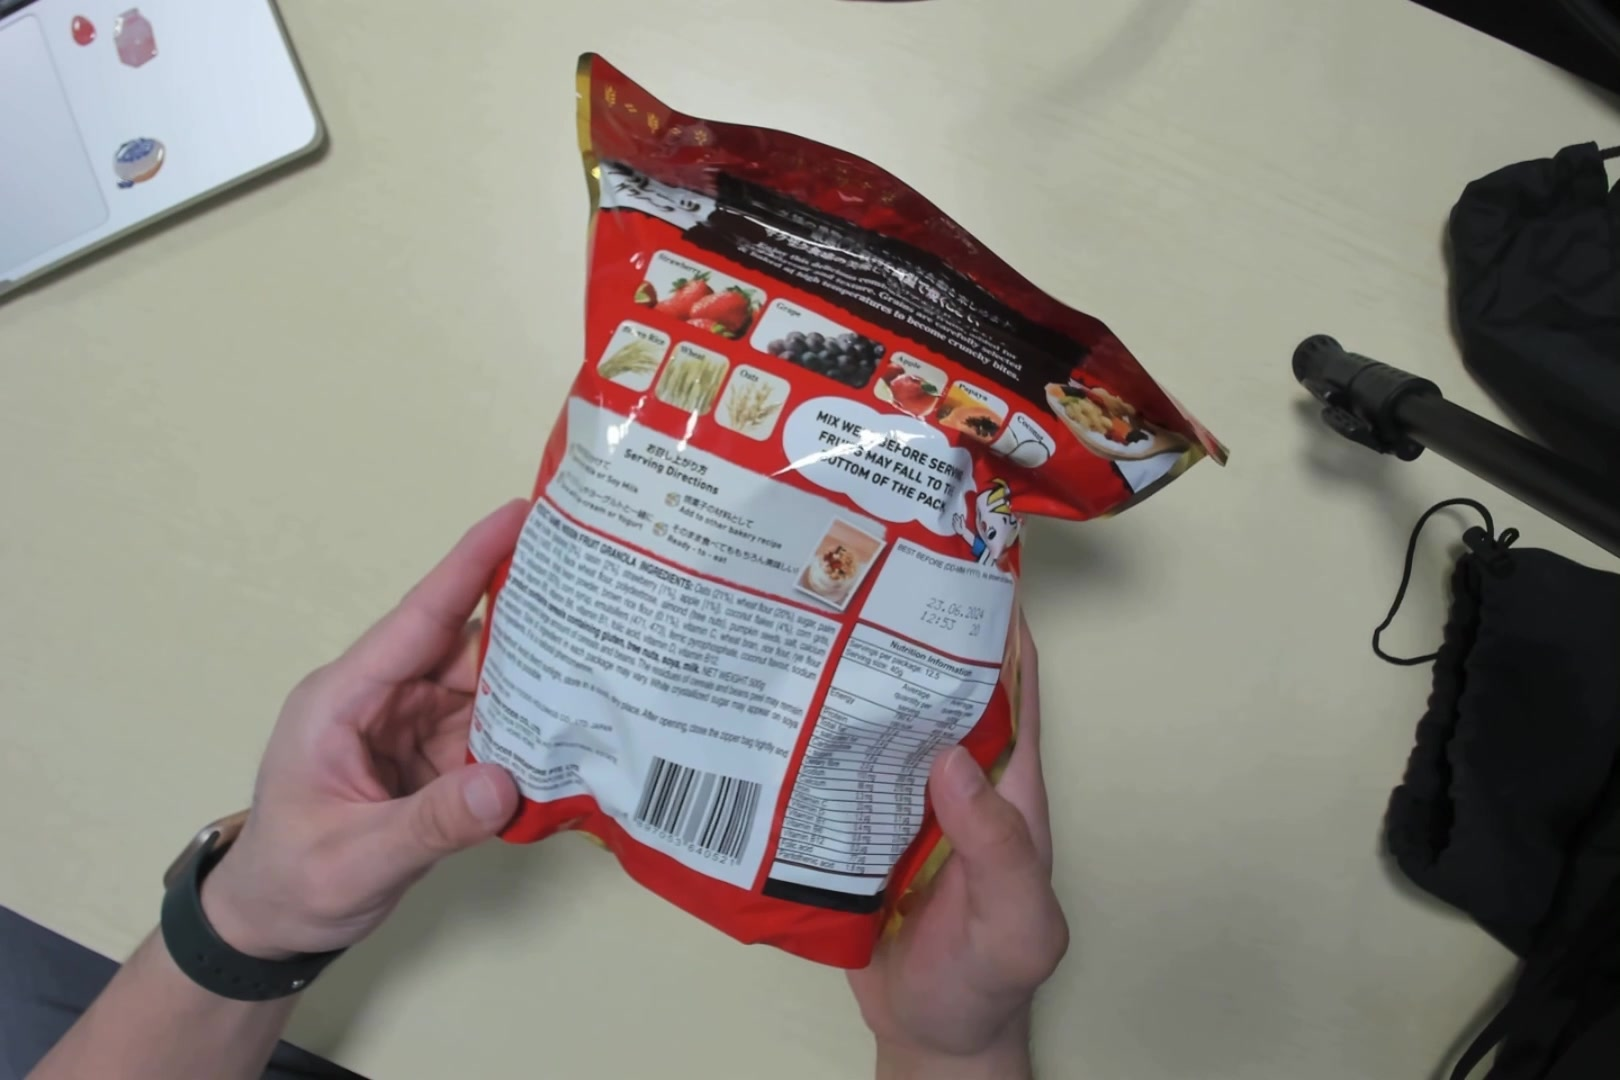BreakfastCereals_300-399g_NonHalal_NonHealthy: (468, 142, 1162, 951)
